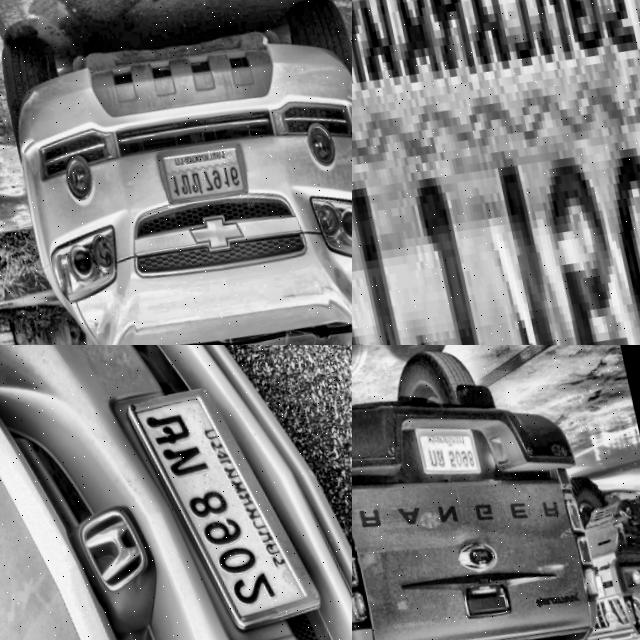license-plate: (352, 0, 640, 345), (81, 345, 300, 520), (151, 132, 253, 210), (414, 417, 482, 479)
